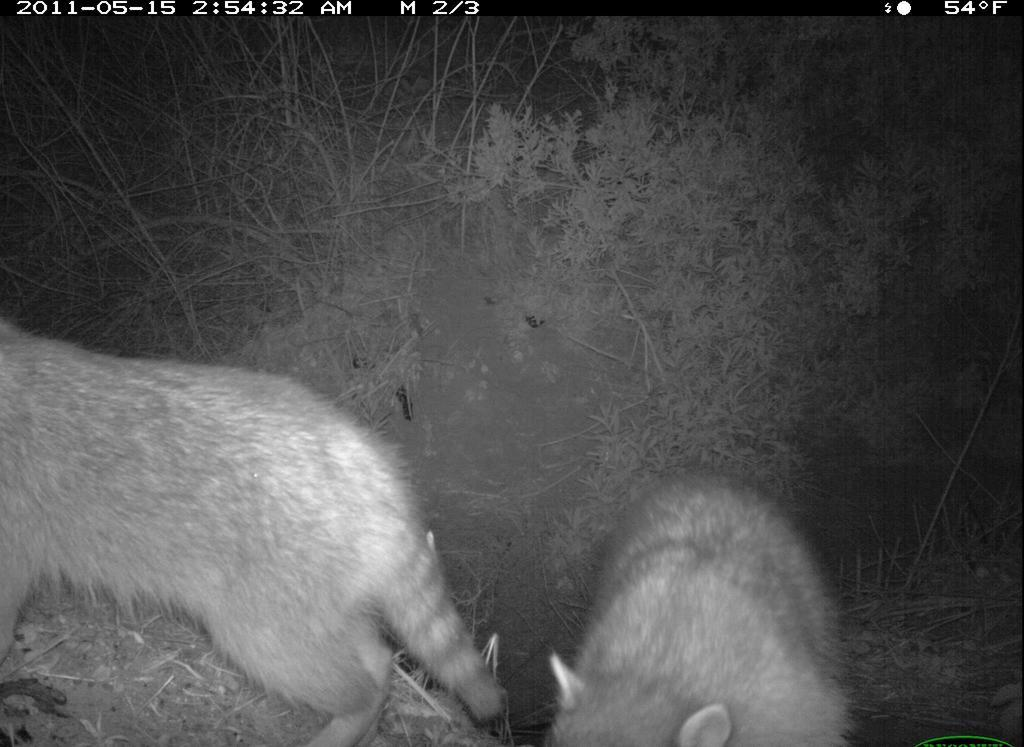raccoon: (3, 313, 510, 745), (534, 459, 879, 747)
